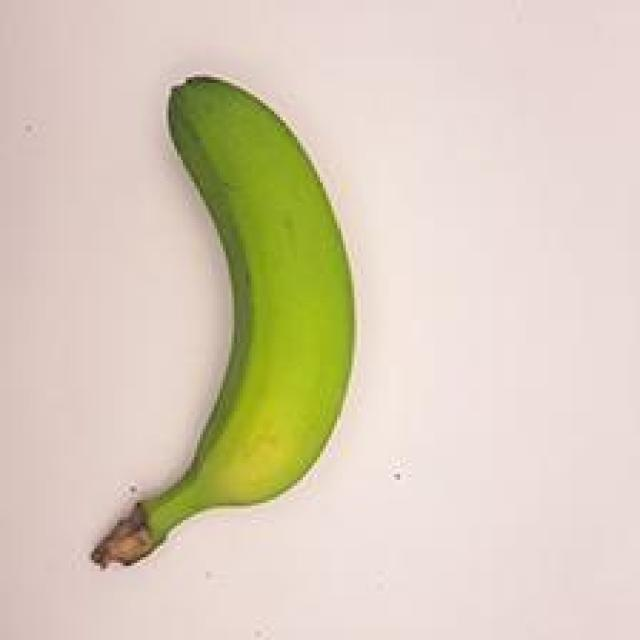Unripe: (80, 69, 372, 585)
